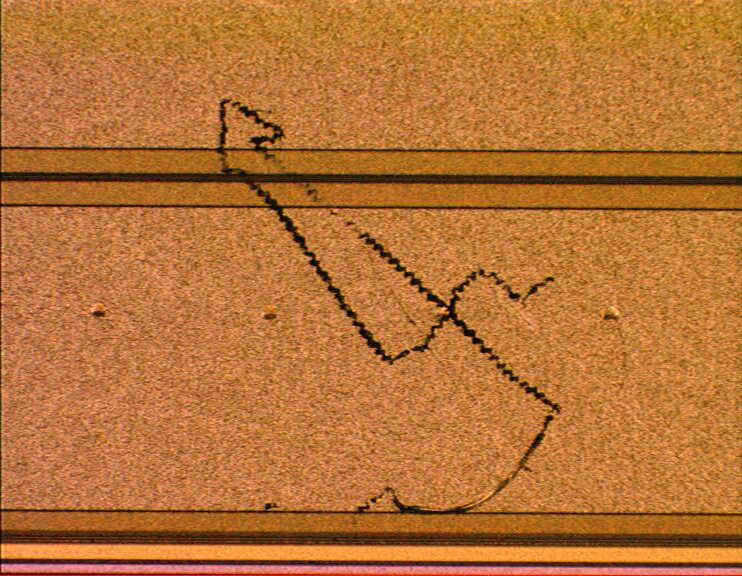SCRATCH: (211, 90, 570, 524)
